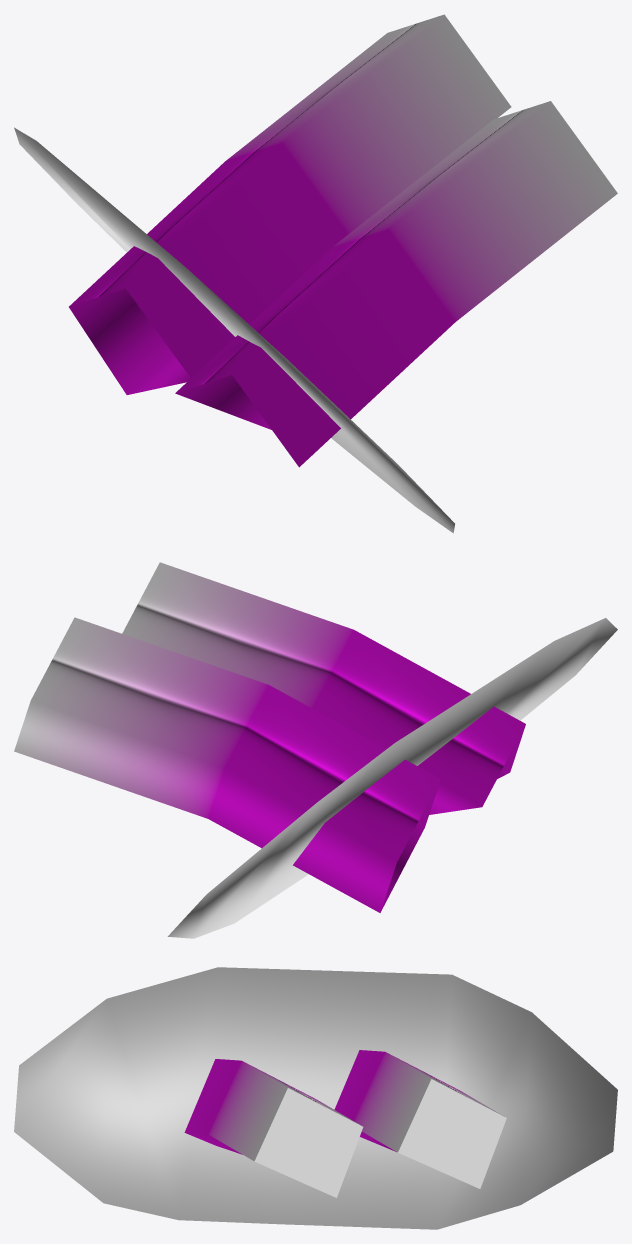
Rendered from Car_Mini_CountrymanJCW_2017_MirrorBaseL_SetD.fbx.
The picture shows the model from 3 angles, top to bottom: view 1: azimuth 30°, elevation 25°; view 2: azimuth 150°, elevation 25°; view 3: azimuth 270°, elevation 25°; orthographic projection. The views are drawn at different scales.
Parts seen in each view (by area): view 1: MirrorBaseL 4; view 2: MirrorBaseL 4; view 3: MirrorBaseL 4.
Part boxes in pixels (x1,y1,x2,y2): MirrorBaseL 4: (14, 14, 617, 533); MirrorBaseL 4: (14, 562, 617, 938); MirrorBaseL 4: (14, 967, 617, 1229).
Size of the model in its own units: 0.0238 by 0.0155 by 0.0393.
